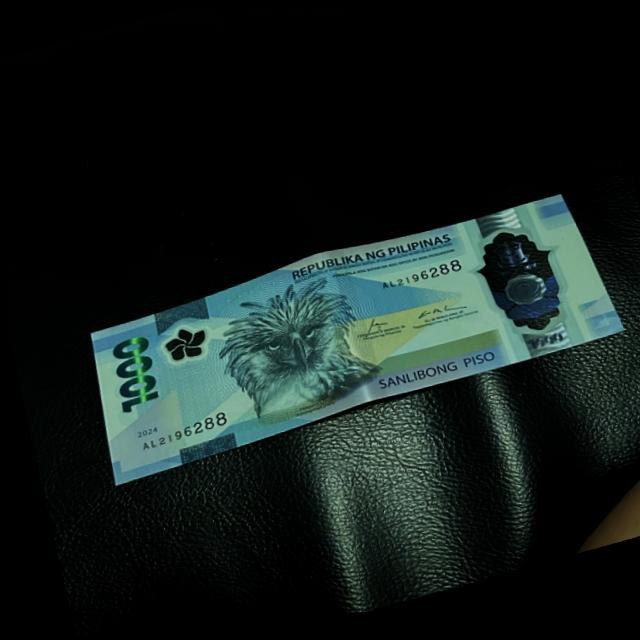clear_window: (464, 216, 576, 352)
eagle: (208, 275, 372, 430)
sampaguita: (151, 320, 213, 372)
